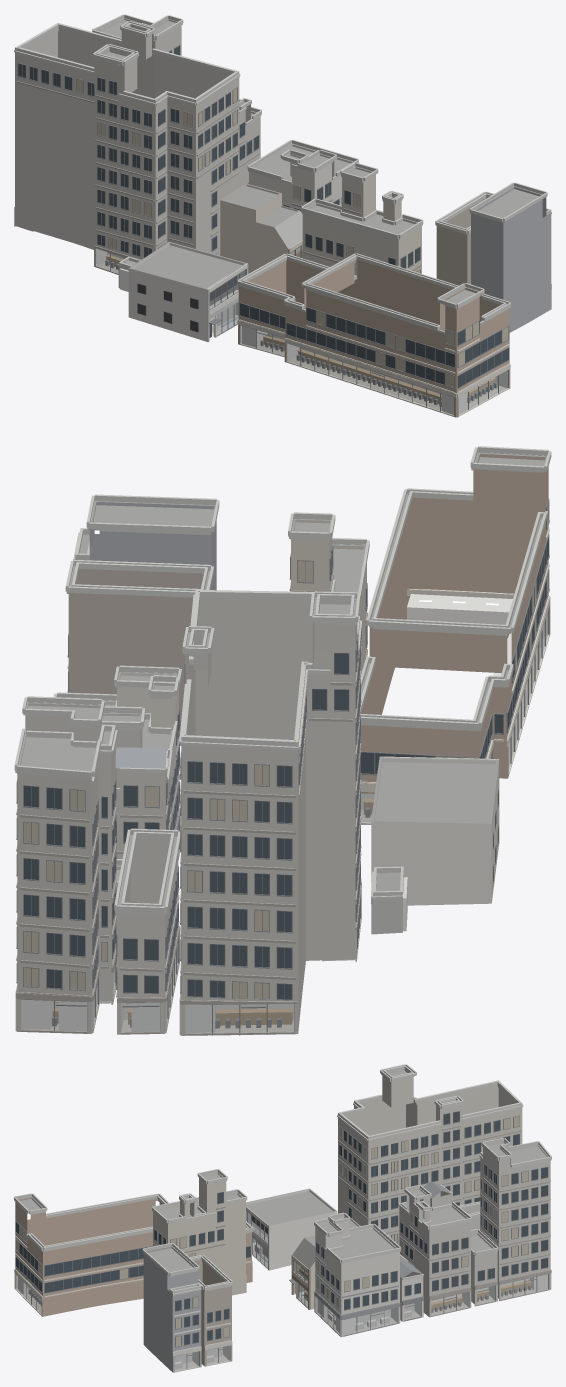
The model's file is d16-inferred-neighborhood.glb.
3 views of the same model, one above another, from view 1: azimuth 30°, elevation 25°; view 2: azimuth 150°, elevation 25°; view 3: azimuth 270°, elevation 25° (orthographic). The views are drawn at different scales.
Parts seen in each view (by area): view 1: INFERRED_facade.001 (×2), INFERRED_glazing.001; view 2: INFERRED_facade.001, INFERRED_glazing.001; view 3: INFERRED_facade.001 (×2), INFERRED_glazing.001.
Part boxes in pixels (x1,y1,x2,y2): INFERRED_facade.001 (×2): [14, 14, 551, 417]; INFERRED_glazing.001: [96, 249, 507, 414]; INFERRED_facade.001: [14, 446, 551, 1035]; INFERRED_glazing.001: [21, 610, 548, 1033]; INFERRED_facade.001 (×2): [14, 1064, 551, 1372]; INFERRED_glazing.001: [16, 1274, 548, 1370].
Bounding box in the file's own units: 49.1 × 31.39 × 83.18.
Materials: 6 (2 with a texture image).
